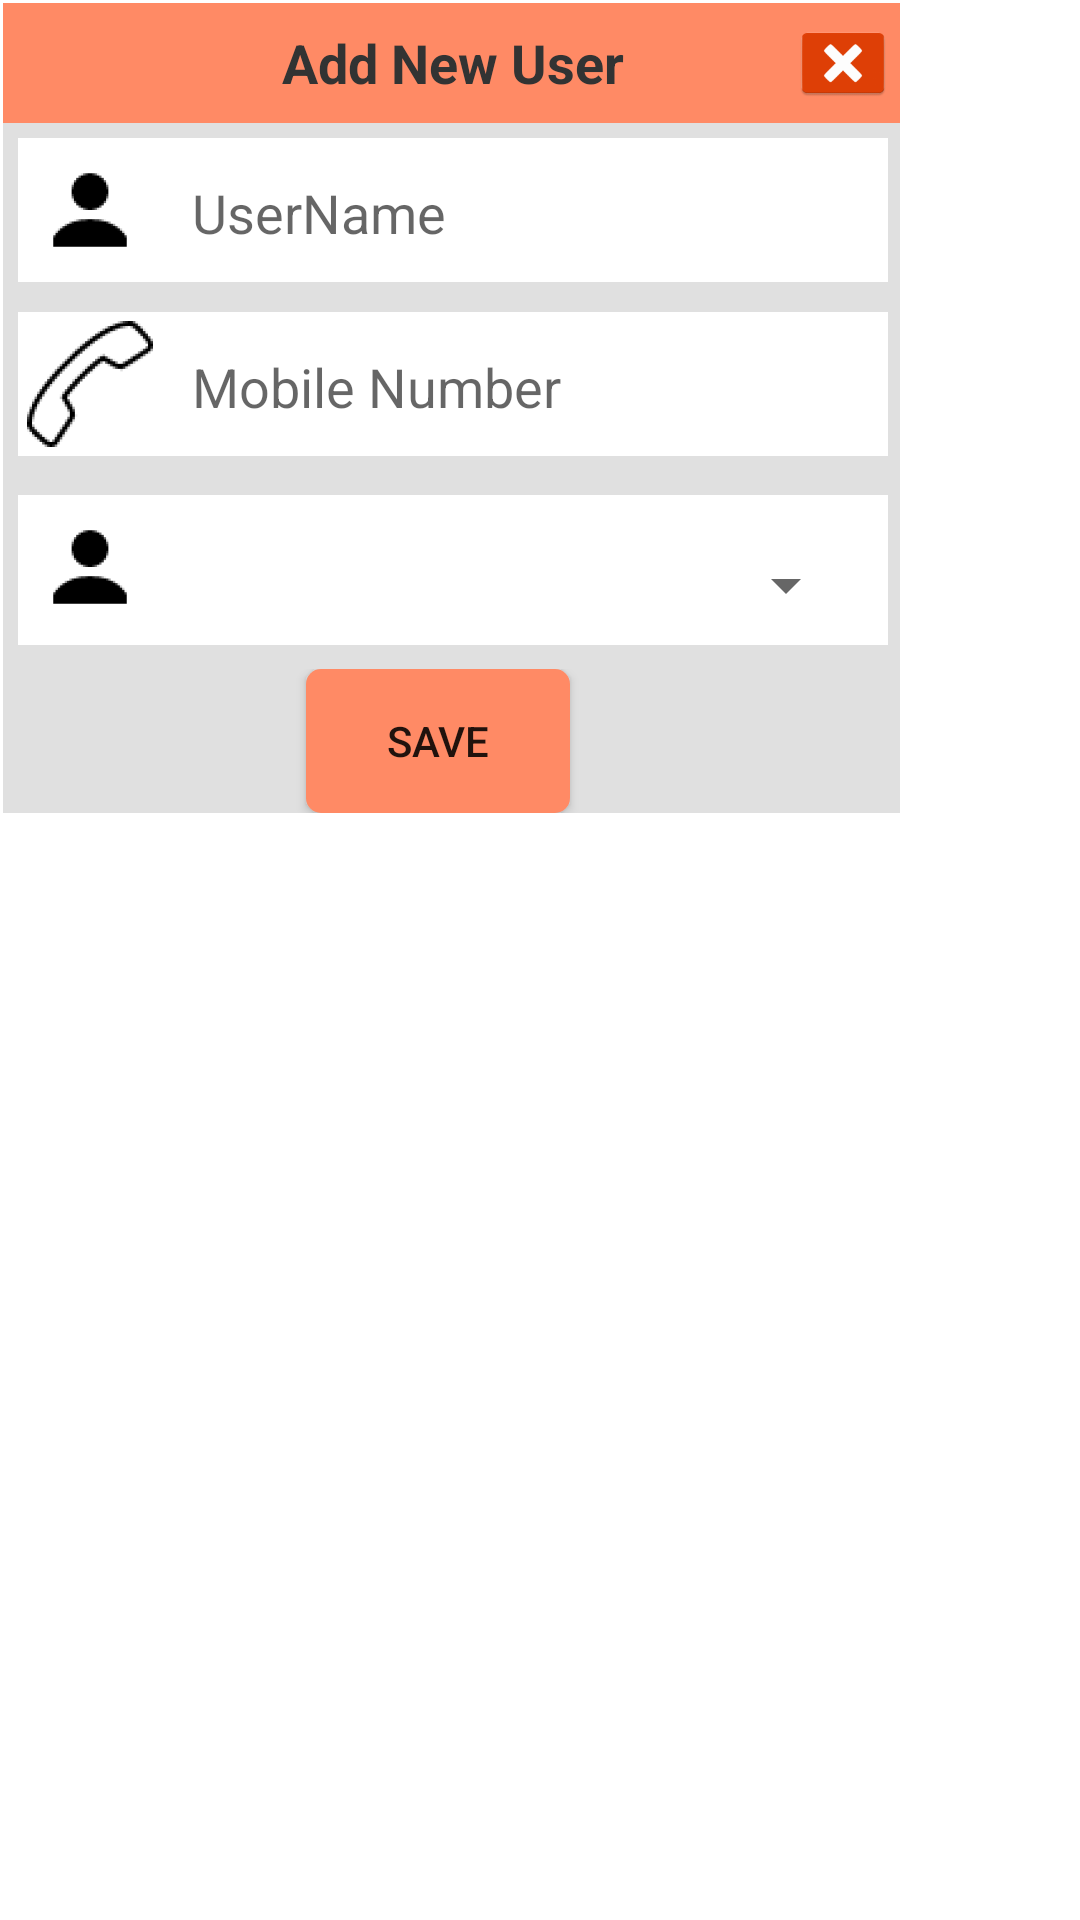

Icon bounding boxes for this 1080 × 1920 phone screenshot, format box=[x1, y1, x2, y2]:
cancel: box=[802, 33, 885, 95]
mobileno: box=[18, 312, 162, 456]
